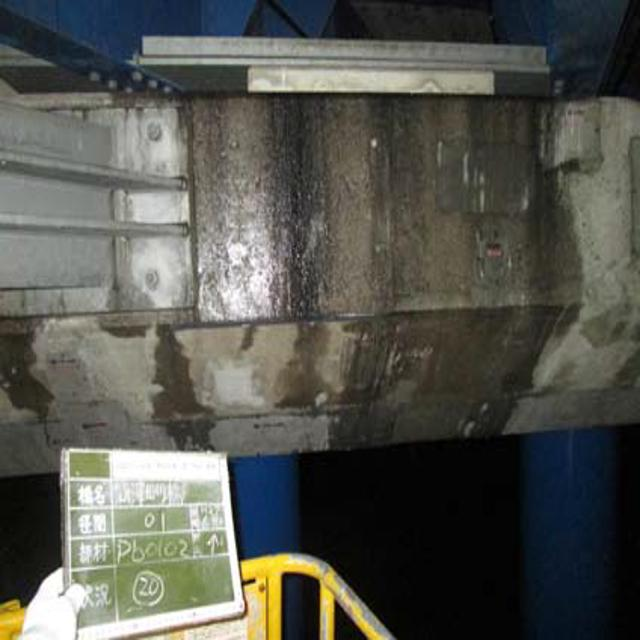leakage: (179, 86, 570, 474)
